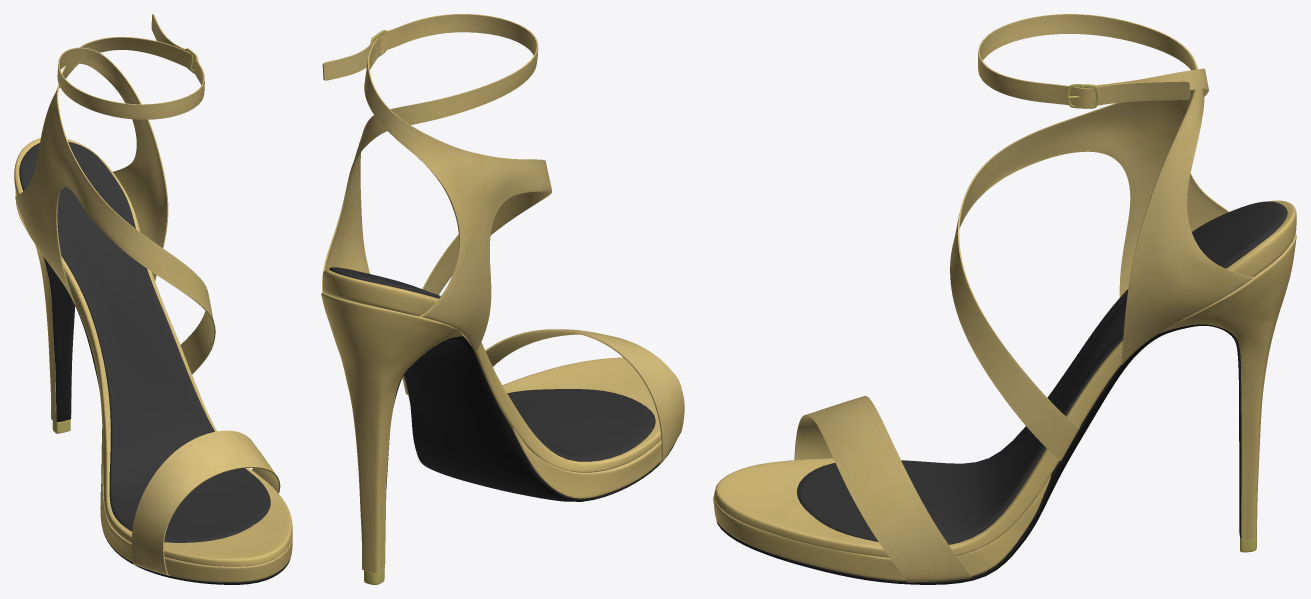
3 views of the same model, side by side, from view 1: azimuth 30°, elevation 25°; view 2: azimuth 150°, elevation 25°; view 3: azimuth 270°, elevation 25° (orthographic). The views are drawn at different scales.
Parts seen in each view (by area): view 1: Curvy_Heel; view 2: Curvy_Heel; view 3: Curvy_Heel.
Part boxes in pixels (box(x1,y1,x2,y2)): Curvy_Heel: box(14, 14, 292, 584); Curvy_Heel: box(321, 14, 684, 584); Curvy_Heel: box(713, 14, 1296, 584).
Size of the model in its own units: 0.0717 by 0.1776 by 0.1842.
Materials: 2 (1 with a texture image).
